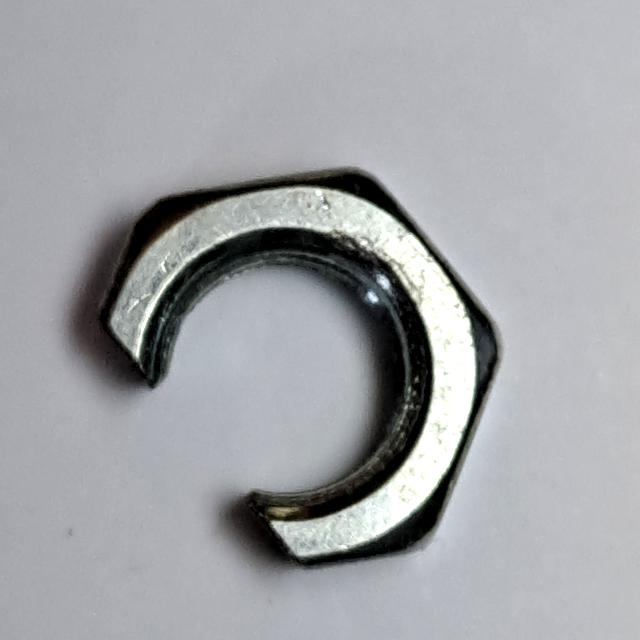Fracture: (83, 156, 509, 579)
